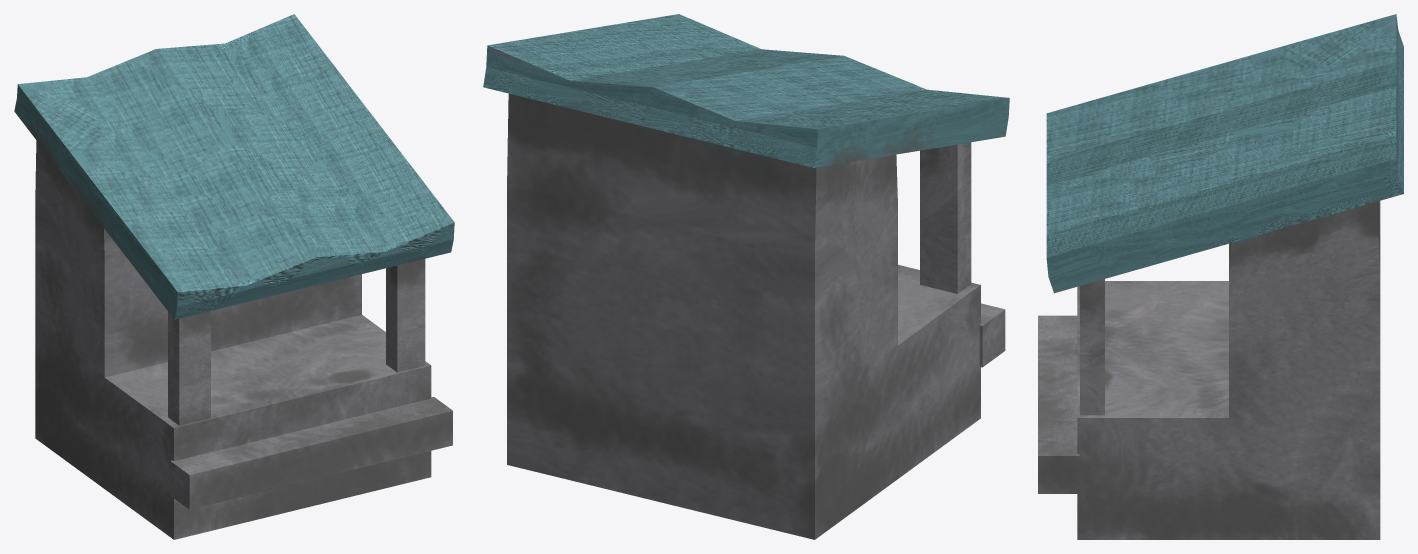
The model's file is stophouse.fbx.
3 renders of one model, left to right at view 1: azimuth 30°, elevation 25°; view 2: azimuth 150°, elevation 25°; view 3: azimuth 270°, elevation 25°, orthographic. The views are drawn at different scales.
Parts seen in each view (by area): view 1: pCube3, pCube1, pCube4; view 2: pCube1, pCube3, pCube4; view 3: pCube1, pCube3, pCube4.
Boxes of the visible parts, left/top/right/bottom form: pCube3: left=14, top=14, right=454, bottom=319; pCube1: left=35, top=140, right=431, bottom=539; pCube4: left=170, top=397, right=452, bottom=509; pCube1: left=507, top=93, right=980, bottom=539; pCube3: left=483, top=14, right=1009, bottom=167; pCube4: left=979, top=303, right=1005, bottom=367; pCube1: left=1077, top=201, right=1380, bottom=539; pCube3: left=1046, top=14, right=1403, bottom=293; pCube4: left=1038, top=315, right=1079, bottom=493.
Bounding box in the file's own units: 5107 × 6243 × 5359.
Materials: 1 (1 with a texture image).
